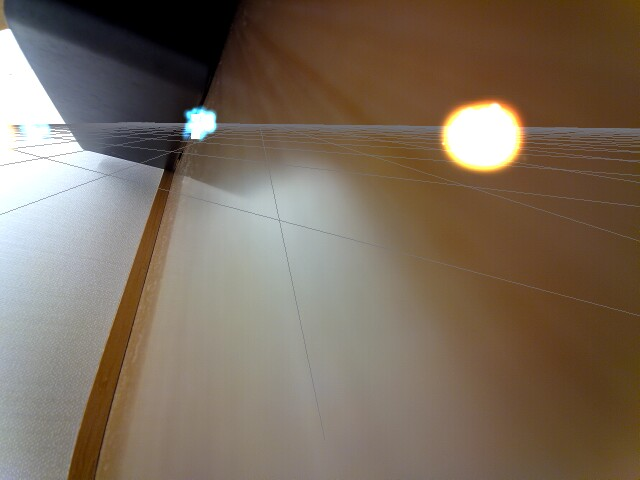firebig: (419, 93, 532, 189)
